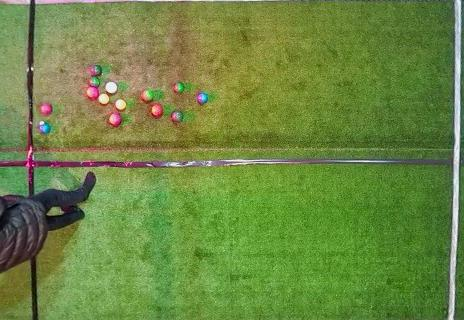blue: (197, 92, 208, 103), (40, 123, 50, 134)
green: (172, 110, 183, 122), (89, 76, 100, 87), (90, 65, 101, 76), (142, 90, 153, 101), (174, 82, 184, 92)
red: (109, 114, 121, 126), (105, 81, 117, 93), (40, 103, 52, 115), (152, 104, 163, 116), (87, 87, 98, 98)
vline: (1, 1, 36, 193), (445, 1, 463, 319), (1, 257, 40, 319)
white: (39, 121, 44, 125)
yellow: (115, 99, 126, 110), (98, 93, 109, 104)
